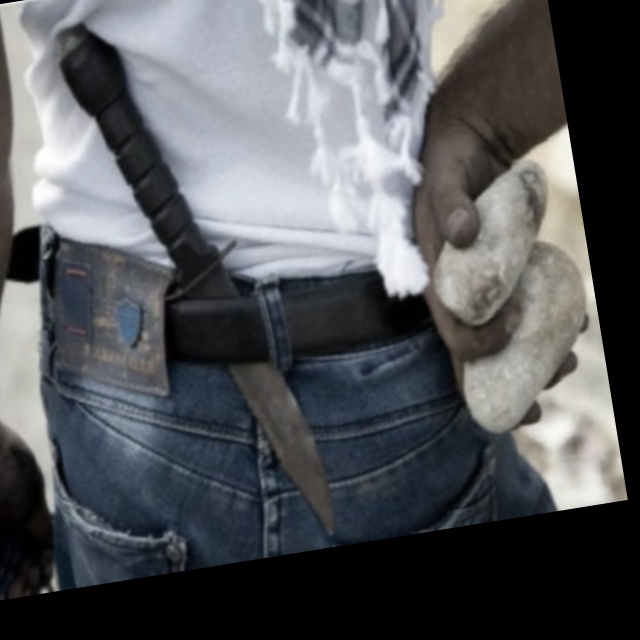Sharp-Object: (51, 0, 337, 563)
